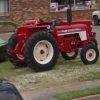Tractor: (7, 13, 99, 69)
